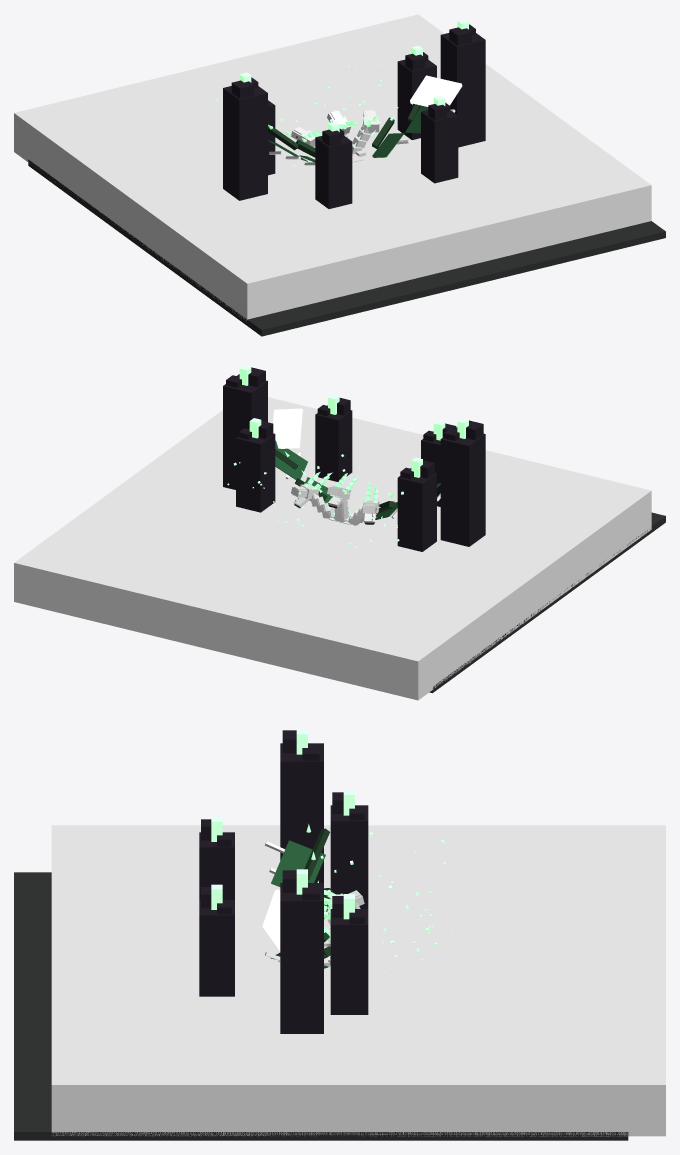
Rendered from three_headed_emerald_dragon.glb.
3 views of the same model, one above another, from view 1: azimuth 30°, elevation 25°; view 2: azimuth 150°, elevation 25°; view 3: azimuth 270°, elevation 25° (orthographic). The views are drawn at different scales.
Visible parts, largest first — view 1: Volumetric_Toxic_Fog, Terrain_Platform_Base, Obsidian_Tower_2_Base, Obsidian_Tower_4_Base, Obsidian_Tower_6_Base, Obsidian_Tower_5_Base, Obsidian_Tower_3_Base, Minecraft_Square_Moon, Obsidian_Tower_1_Base; view 2: Volumetric_Toxic_Fog, Obsidian_Tower_2_Base, Obsidian_Tower_3_Base, Obsidian_Tower_1_Base, Obsidian_Tower_4_Base, Obsidian_Tower_6_Base, Terrain_Platform_Base, Minecraft_Square_Moon, Obsidian_Tower_5_Base, Wing_Mem_Out_R; view 3: Volumetric_Toxic_Fog, Terrain_Platform_Base, Obsidian_Tower_4_Base, Obsidian_Tower_2_Base, Obsidian_Tower_3_Base, Obsidian_Tower_1_Base, Obsidian_Tower_6_Base, Obsidian_Tower_5_Base, Wing_Mem_Out_L, Minecraft_Square_Moon.
Part boxes in pixels (left/top/right/bottom): Volumetric_Toxic_Fog: left=14, top=14, right=651, bottom=321; Terrain_Platform_Base: left=28, top=159, right=665, bottom=336; Obsidian_Tower_2_Base: left=223, top=86, right=267, bottom=200; Obsidian_Tower_4_Base: left=440, top=33, right=485, bottom=147; Obsidian_Tower_6_Base: left=421, top=110, right=458, bottom=183; Obsidian_Tower_5_Base: left=315, top=136, right=352, bottom=208; Obsidian_Tower_3_Base: left=397, top=59, right=436, bottom=139; Minecraft_Square_Moon: left=410, top=75, right=462, bottom=106; Obsidian_Tower_1_Base: left=268, top=100, right=275, bottom=175; Volumetric_Toxic_Fog: left=14, top=397, right=651, bottom=700; Obsidian_Tower_2_Base: left=440, top=427, right=485, bottom=546; Obsidian_Tower_3_Base: left=236, top=428, right=275, bottom=512; Obsidian_Tower_1_Base: left=397, top=468, right=436, bottom=551; Obsidian_Tower_4_Base: left=223, top=374, right=267, bottom=489; Obsidian_Tower_6_Base: left=315, top=405, right=352, bottom=481; Terrain_Platform_Base: left=429, top=512, right=665, bottom=693; Minecraft_Square_Moon: left=273, top=408, right=302, bottom=448; Obsidian_Tower_5_Base: left=421, top=439, right=440, bottom=506; Wing_Mem_Out_R: left=275, top=440, right=307, bottom=480; Volumetric_Toxic_Fog: left=51, top=825, right=665, bottom=1136; Terrain_Platform_Base: left=14, top=872, right=628, bottom=1140; Obsidian_Tower_4_Base: left=280, top=883, right=323, bottom=1033; Obsidian_Tower_2_Base: left=280, top=743, right=323, bottom=882; Obsidian_Tower_3_Base: left=330, top=909, right=368, bottom=1014; Obsidian_Tower_1_Base: left=330, top=805, right=368, bottom=908; Obsidian_Tower_6_Base: left=199, top=900, right=234, bottom=996; Obsidian_Tower_5_Base: left=199, top=832, right=234, bottom=899; Wing_Mem_Out_L: left=271, top=840, right=325, bottom=886; Minecraft_Square_Moon: left=262, top=889, right=280, bottom=951.
Bounding box in the file's own units: 65 × 24.4 × 69.
